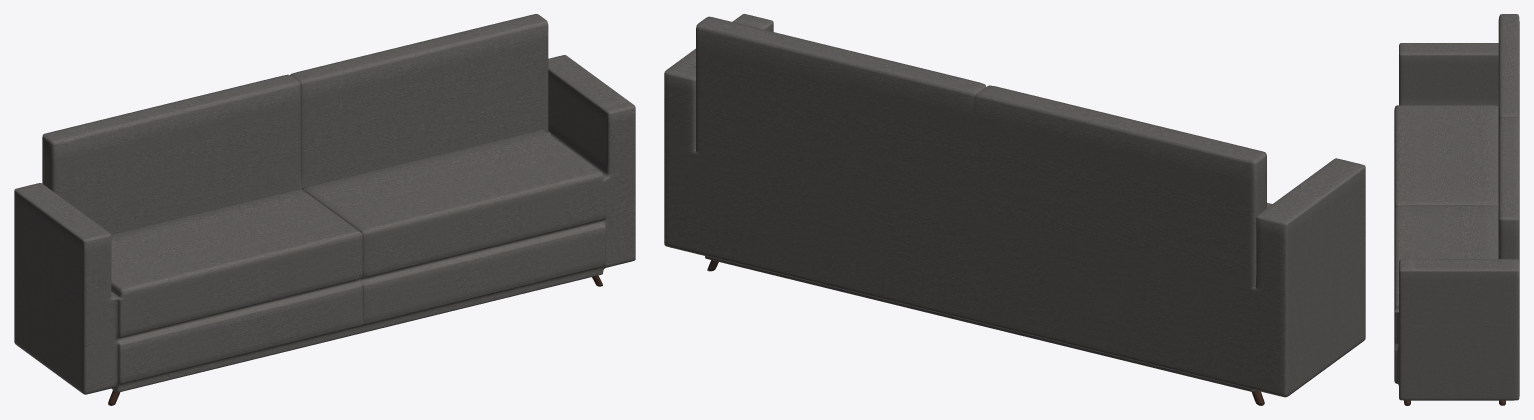
File: _finalCouch.fbx
The picture shows the model from 3 angles, left to right: view 1: azimuth 30°, elevation 25°; view 2: azimuth 150°, elevation 25°; view 3: azimuth 270°, elevation 25°; orthographic projection. The views are drawn at different scales.
Parts seen in each view (by area): view 1: Couch; view 2: Couch; view 3: Couch.
Boxes of the visible parts, x1,y1,x2,y2 form: Couch: [14, 14, 635, 405]; Couch: [664, 14, 1365, 405]; Couch: [1394, 14, 1519, 405].
Size of the model in its own units: 892 by 346 by 207.
1 material, 1 textured.
